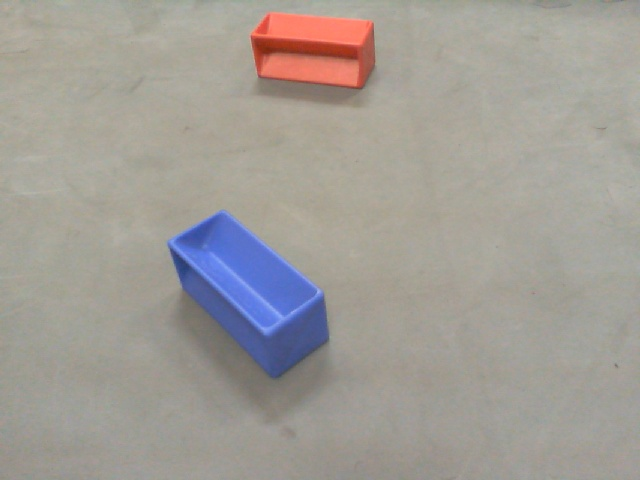BlueSample: (166, 207, 331, 387)
RedSample: (248, 9, 376, 90)
